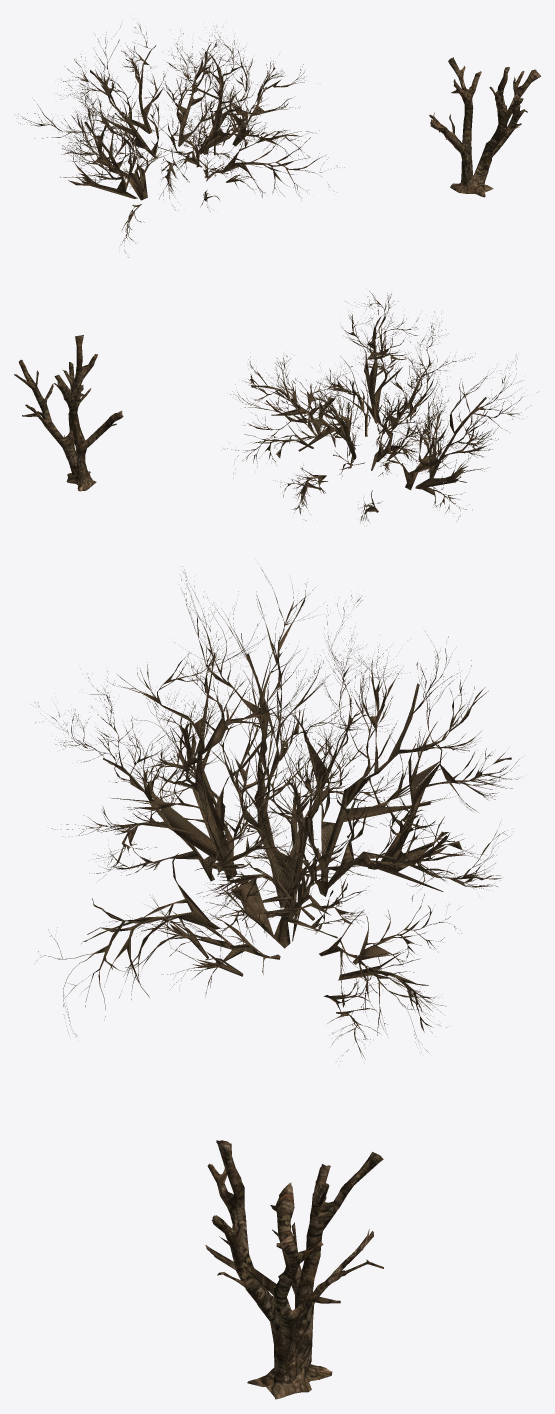
The model's file is field_broadleaf_b_lod2.glb.
The picture shows the model from 3 angles, top to bottom: view 1: azimuth 30°, elevation 25°; view 2: azimuth 150°, elevation 25°; view 3: azimuth 270°, elevation 25°; orthographic projection. The views are drawn at different scales.
Parts seen in each view (by area): view 1: bark_lod2; view 2: bark_lod2; view 3: bark_lod2.
Boxes of the visible parts, bbox=[...] form: bark_lod2: bbox=[18, 19, 540, 257]; bark_lod2: bbox=[14, 291, 531, 523]; bark_lod2: bbox=[34, 569, 522, 1399].
Size of the model in its own units: 43.02 by 19.42 by 18.03.
2 materials, 2 textured.
